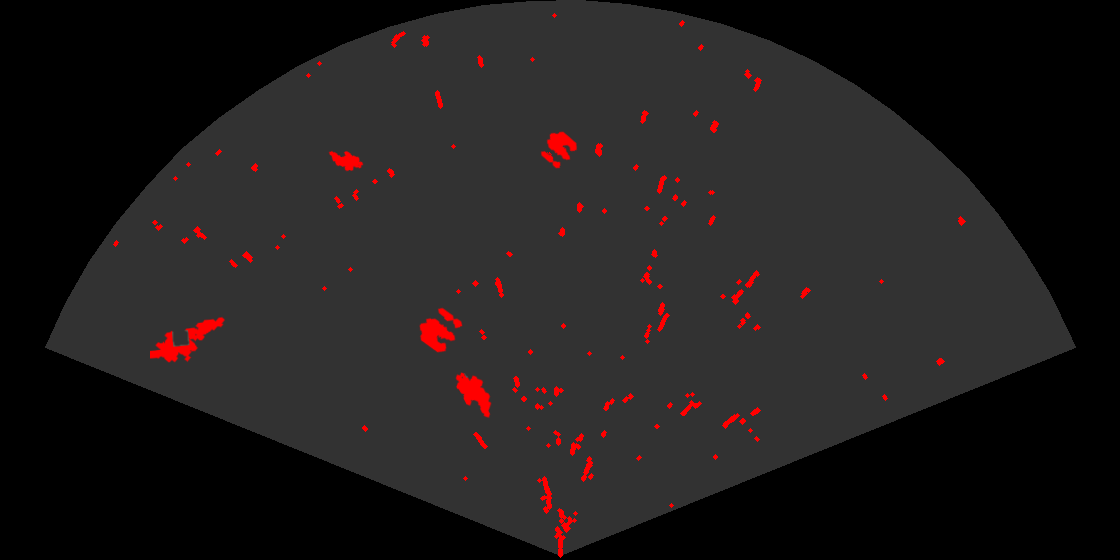AUV: (454, 371, 493, 420), (327, 149, 365, 173)
ball: (418, 306, 464, 354), (539, 130, 579, 170)
frogman: (150, 315, 227, 364)
